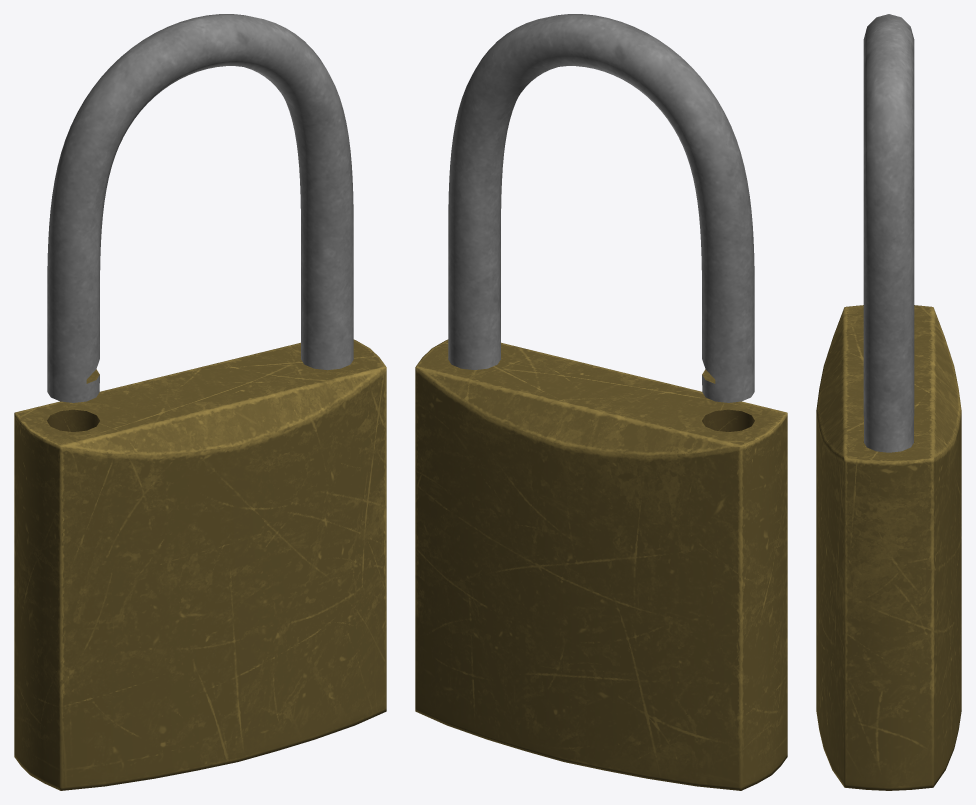
The model's file is gold_lock.glb.
The picture shows the model from 3 angles, left to right: view 1: azimuth 30°, elevation 25°; view 2: azimuth 150°, elevation 25°; view 3: azimuth 270°, elevation 25°; orthographic projection. The views are drawn at different scales.
Visible parts, largest first — view 1: Lock Part 1_1, Lock Part 2_0; view 2: Lock Part 1_1, Lock Part 2_0; view 3: Lock Part 1_1, Lock Part 2_0.
Part boxes in pixels (left/top/right/bottom): Lock Part 1_1: left=14, top=339, right=386, bottom=790; Lock Part 2_0: left=47, top=14, right=353, bottom=402; Lock Part 1_1: left=415, top=339, right=787, bottom=790; Lock Part 2_0: left=448, top=14, right=754, bottom=402; Lock Part 1_1: left=816, top=305, right=961, bottom=790; Lock Part 2_0: left=863, top=14, right=914, bottom=452.
Size of the model in its own units: 0.0805 by 0.1625 by 0.0312.
Materials: 1 (1 with a texture image).
